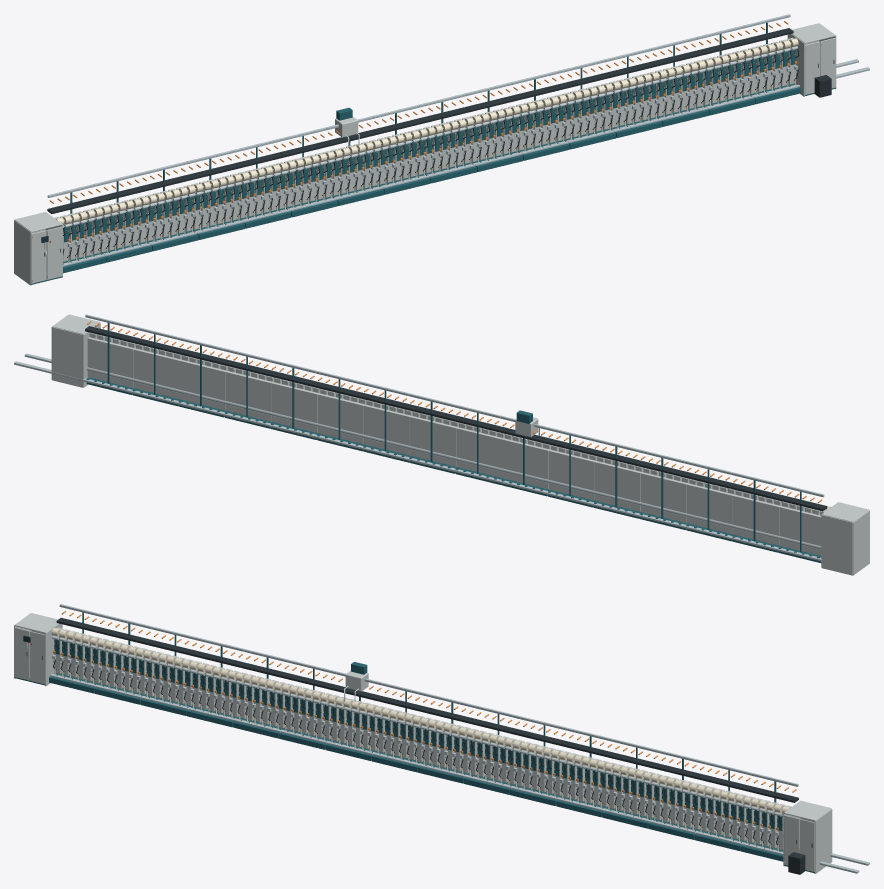
File: winding.glb
3 renders of one model, top to bottom at view 1: azimuth 30°, elevation 25°; view 2: azimuth 150°, elevation 25°; view 3: azimuth 330°, elevation 25°, orthographic.
Visible parts, largest first — view 1: X6_service_head_end, X6_service_head_door.001, X6_service_head_door, X6_TypeV_interface_door, X6_TypeV_interface_door.001, X6_service_head_roof, X6_TypeV_interface_roof; view 2: X6_vacuum_main, X6_rear_manifold.005, X6_rear_manifold.014, X6_rear_manifold.012, X6_rear_manifold.004, X6_rear_manifold.007, X6_rear_manifold.001, X6_rear_manifold.008, X6_rear_manifold.015, X6_rear_manifold.011, X6_service_head_rear, X6_rear_manifold.009 (+10 smaller); view 3: X6_TypeV_interface_end.001, X6_service_head_door.001, X6_service_head_door, X6_TypeV_interface_door.001, X6_TypeV_interface_door, X6_TypeV_interface_roof, X6_service_head_roof.
Part boxes in pixels (x1,y1,x2,y2): X6_service_head_end: (14, 220, 31, 285); X6_service_head_door.001: (47, 226, 62, 279); X6_service_head_door: (31, 230, 46, 283); X6_TypeV_interface_door: (805, 41, 820, 94); X6_TypeV_interface_door.001: (820, 37, 835, 88); X6_service_head_roof: (14, 212, 62, 232); X6_TypeV_interface_roof: (792, 23, 835, 43); X6_vacuum_main: (87, 367, 821, 549); X6_rear_manifold.005: (548, 449, 595, 500); X6_rear_manifold.014: (133, 348, 180, 399); X6_rear_manifold.012: (225, 371, 272, 421); X6_rear_manifold.004: (594, 461, 641, 511); X6_rear_manifold.007: (456, 427, 503, 477); X6_rear_manifold.001: (733, 494, 780, 545); X6_rear_manifold.008: (410, 416, 457, 466); X6_rear_manifold.015: (87, 337, 134, 387); X6_rear_manifold.011: (271, 382, 318, 432); X6_service_head_rear: (821, 515, 852, 575); X6_rear_manifold.009: (364, 404, 411, 455); X6_TypeV_interface_end.001: (814, 809, 832, 873); X6_service_head_door.001: (30, 631, 45, 684); X6_service_head_door: (14, 627, 29, 680); X6_TypeV_interface_door.001: (799, 819, 814, 871); X6_TypeV_interface_door: (784, 815, 799, 865); X6_TypeV_interface_roof: (784, 800, 831, 820); X6_service_head_roof: (14, 613, 58, 633).
Size of the model in its own units: 34.92 by 3.28 by 1.69.
